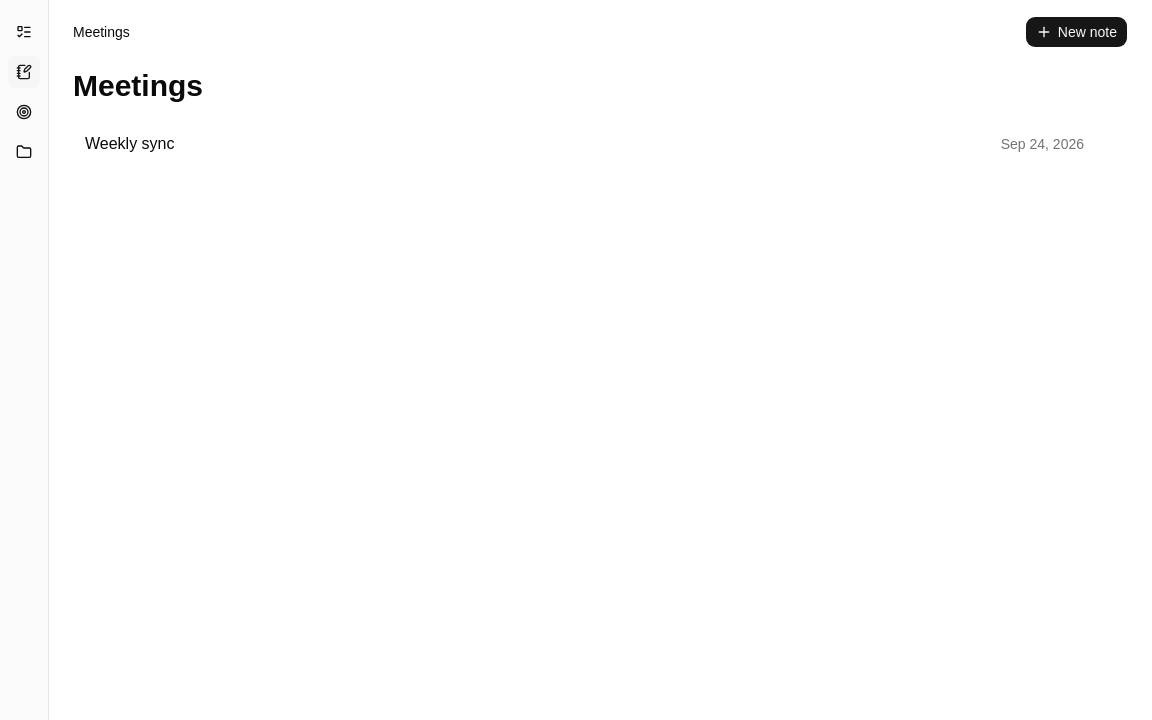
Test: The project of a meeting › goes back to the saved choice and shows a failure toast when the project cannot be saved
The image size is (1152, 720).
Click the link "Weekly sync Sep 24, 2026": (130, 144) [85,135,1084,152]
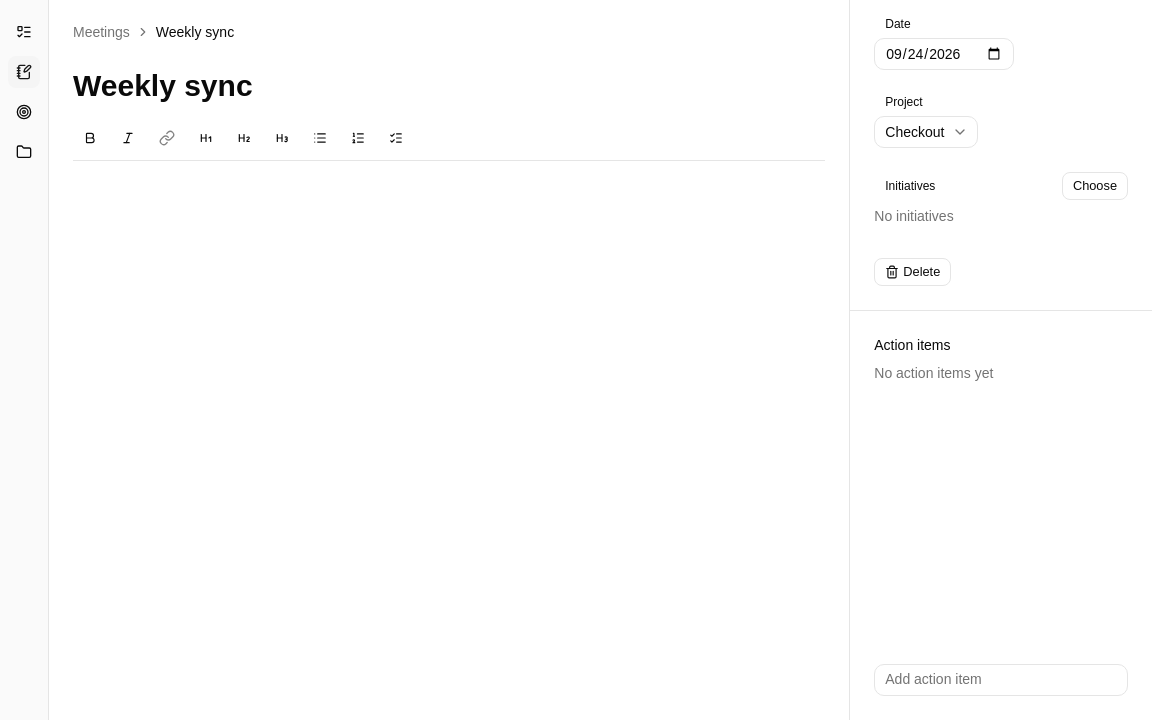
Expected: the dropdown named "Meeting project" is enabled
Select "Billing" in the dropdown named "Meeting project": (926, 132) [874,116,978,148]
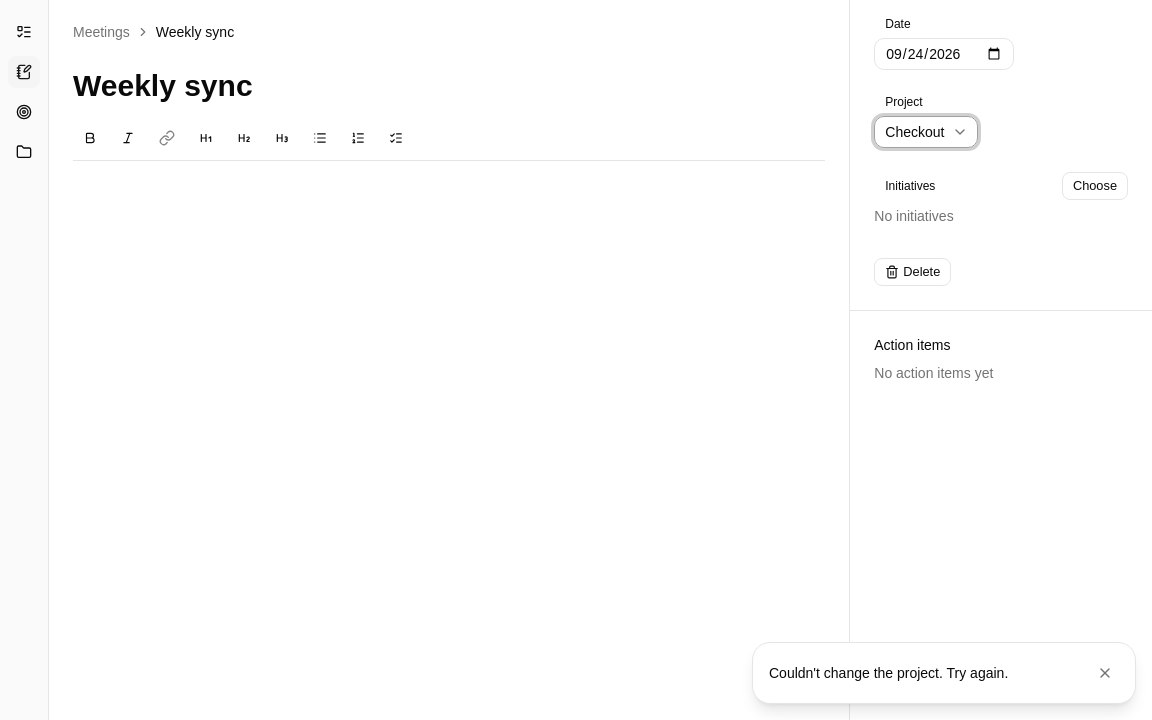
Expected: the heading "Couldn't change the project. Try again." is shown, [769,665,1008,681]
